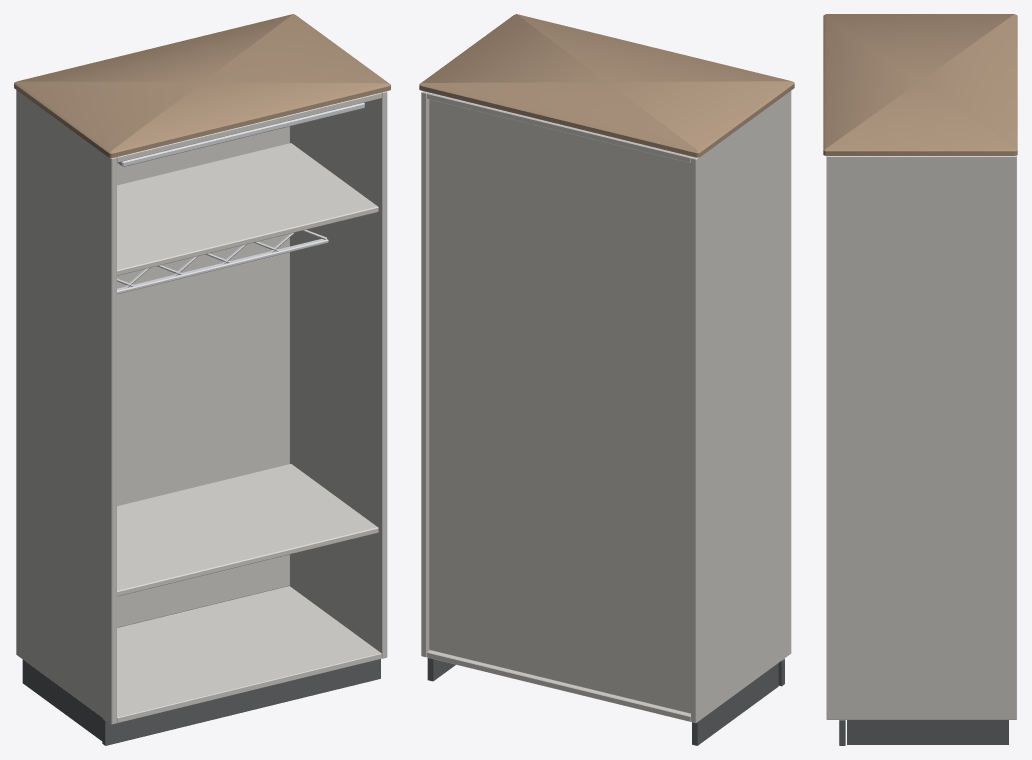
File: hotel-and-resort-operations-wardrobe-open-8649eea2__25758.glb
3 views of the same model, side by side, from view 1: azimuth 30°, elevation 25°; view 2: azimuth 150°, elevation 25°; view 3: azimuth 270°, elevation 25° (orthographic).
Visible parts, largest first — view 1: wardrobe-open; view 2: wardrobe-open; view 3: wardrobe-open.
Boxes of the visible parts, bbox=[...] form: wardrobe-open: bbox=[14, 14, 390, 745]; wardrobe-open: bbox=[419, 14, 794, 745]; wardrobe-open: bbox=[823, 14, 1017, 745].
Size of the model in its own units: 1.02 by 2.08 by 0.6121.
